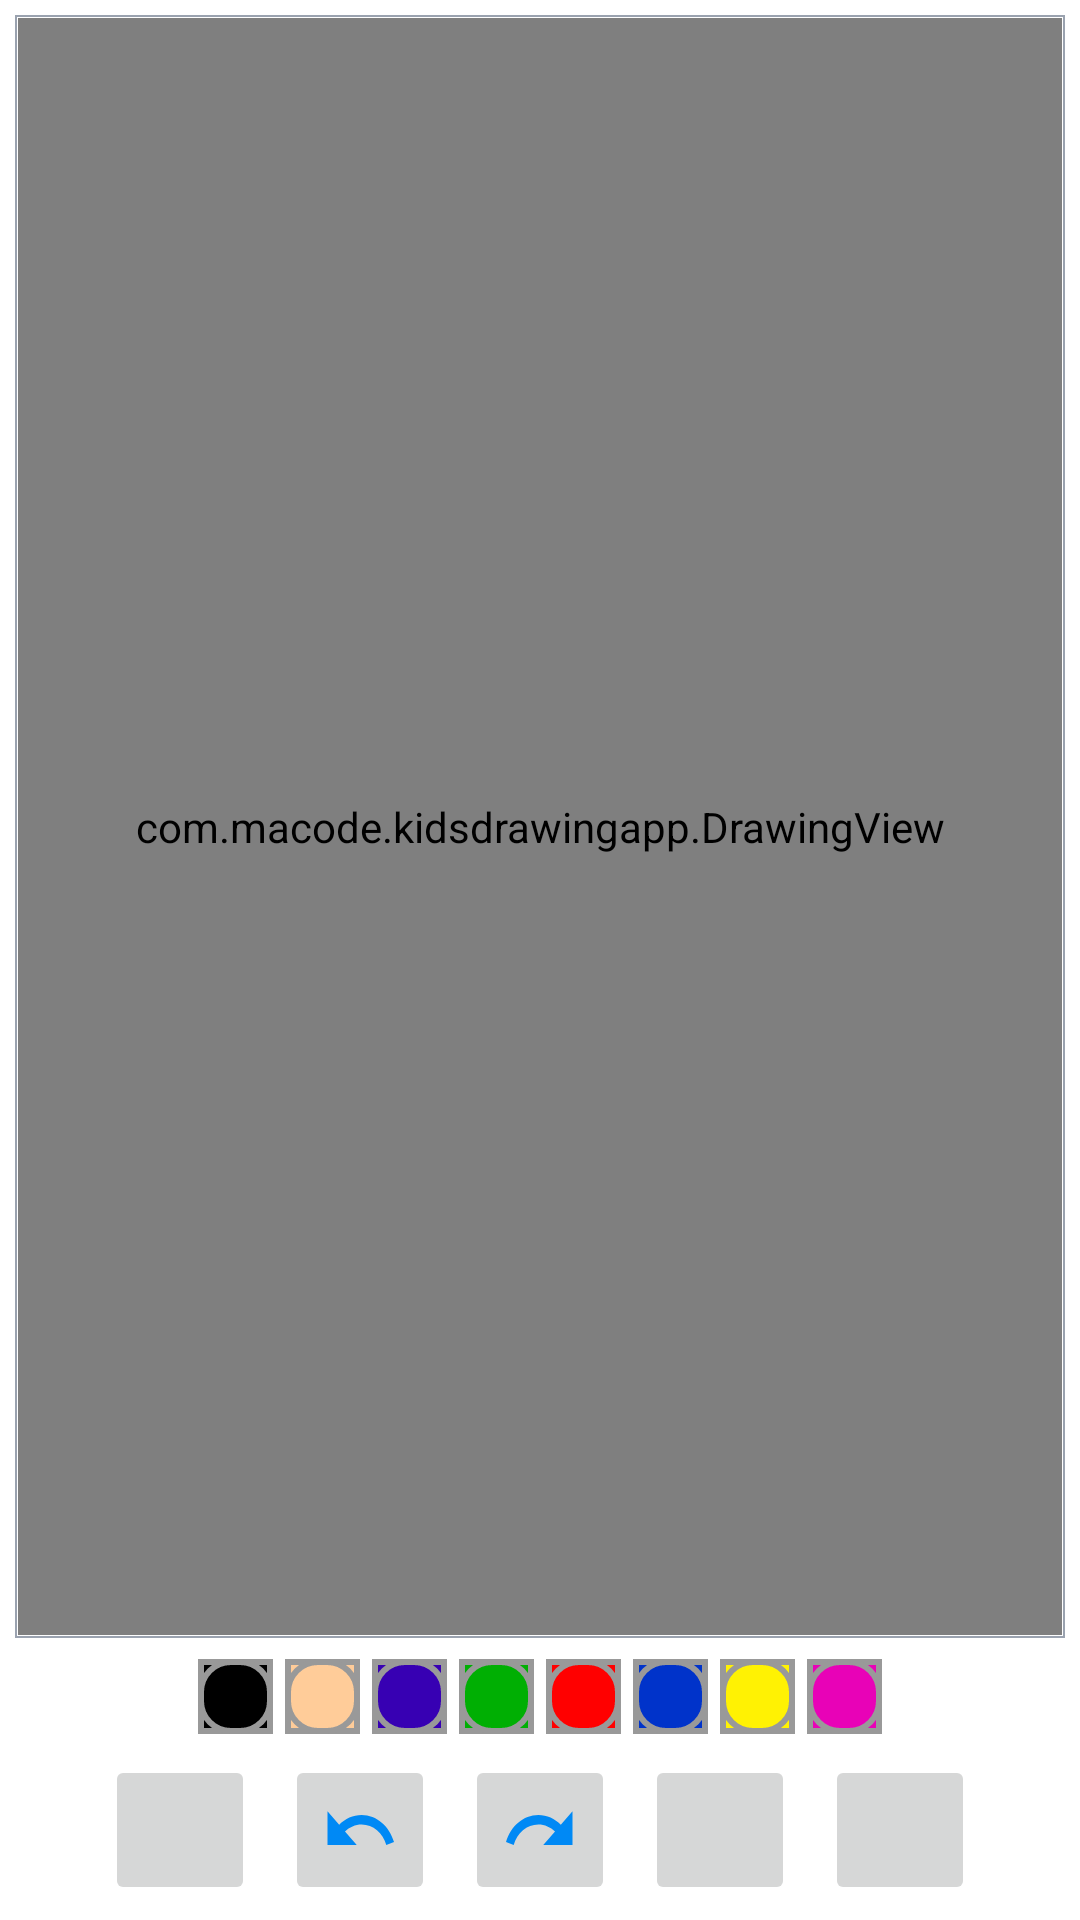

Icons on this 1080px×1920px Android screen, each with its box as bbox=[x1, y1, x2, y2]:
redo previous action: bbox=[477, 1773, 603, 1887]
undo previous action: bbox=[297, 1773, 423, 1887]
